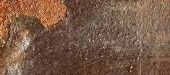Corrosion: (1, 1, 66, 46)
